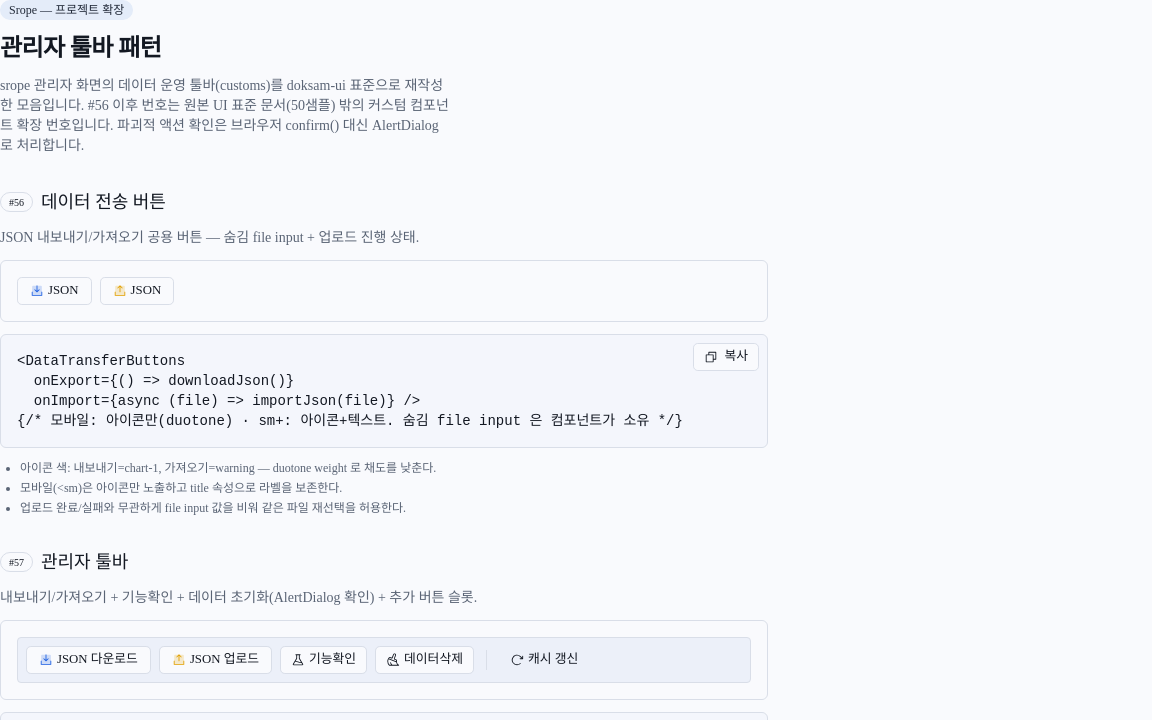
Scenario: AdminToolbarPatternsPage › opens the alert dialog before destructive reset
Click the button "데이터삭제": (425, 660) [375, 646, 474, 674]
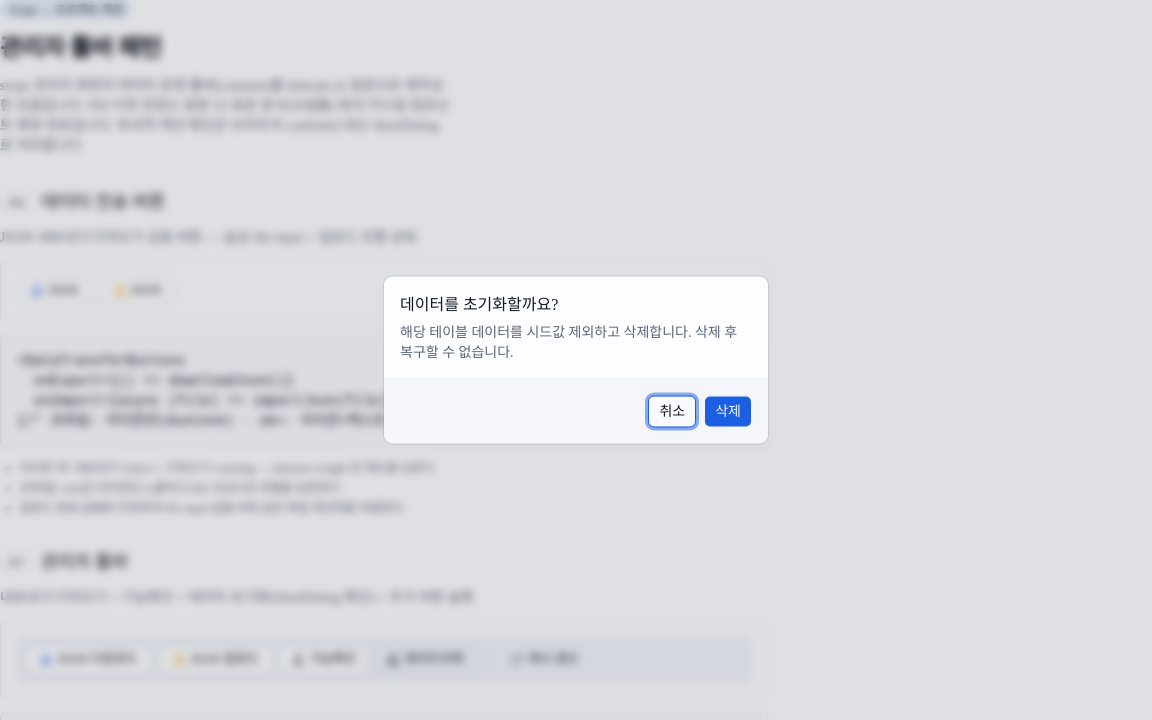
Expected: the dialog "데이터를 초기화할까요?" is shown, [384, 276, 768, 444]
